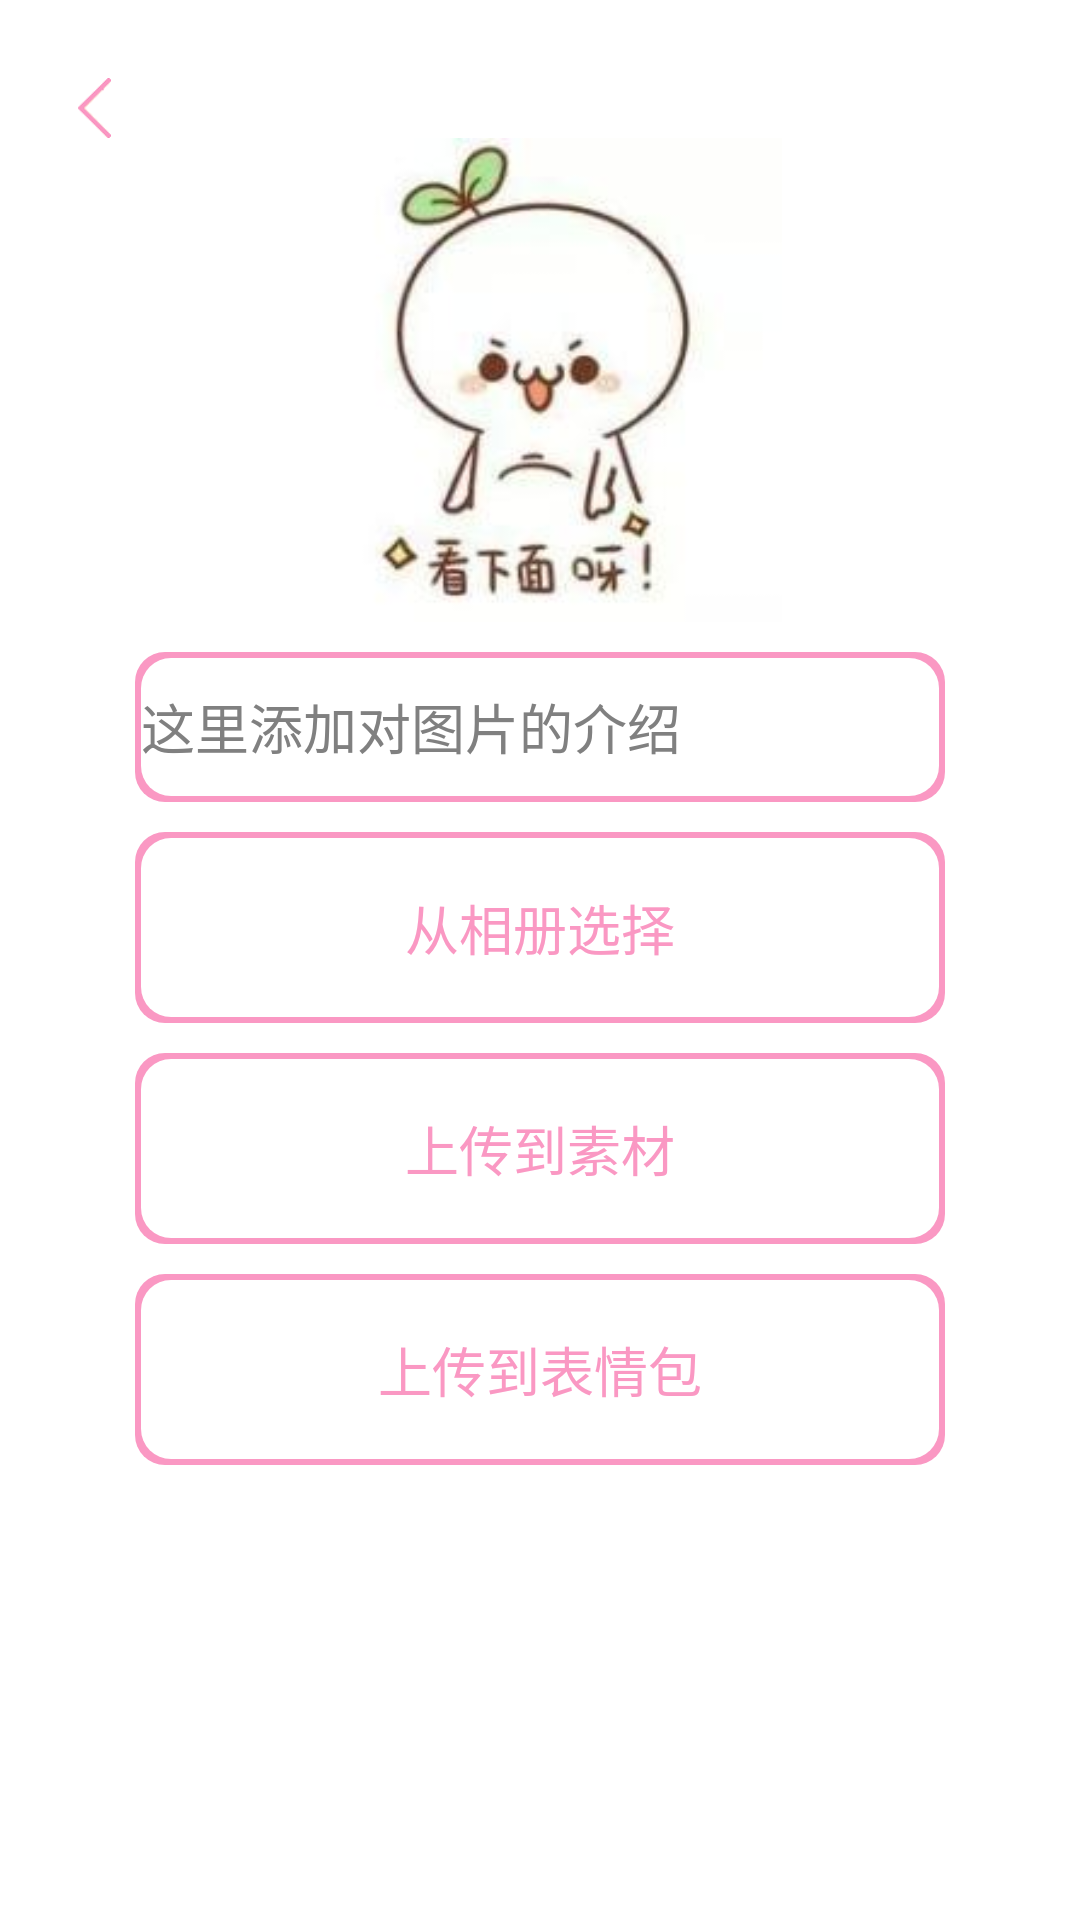

Named icons in this screenshot (1080 × 1920) and their centers, [x,y]:
back: [94,108]
